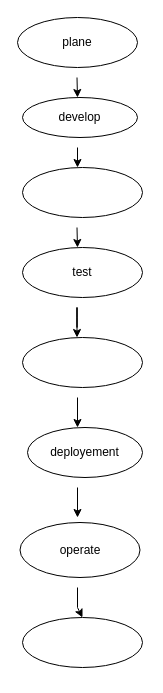
Some shapes in this 163 by 693 pixel diagram are drawn without their labels. The centre of each missing label's shape, as x and y in pixels:
"build" goes at point 82,192.
"release" goes at point 82,362.
